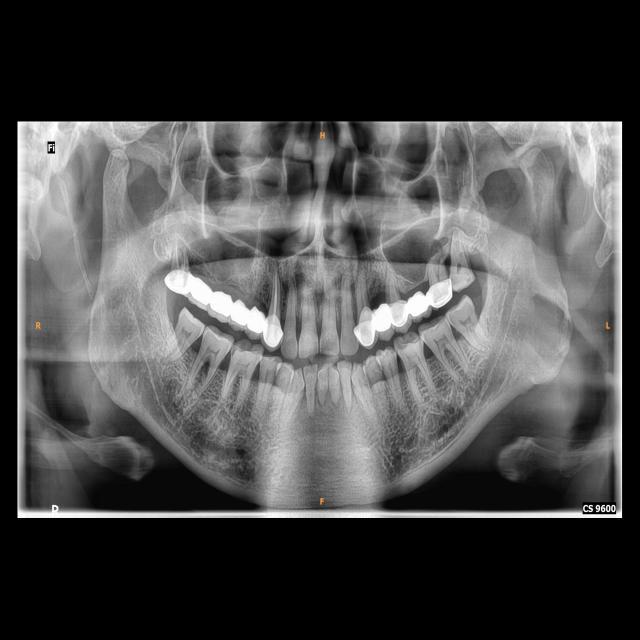kanal-tedavisi: (272, 272, 280, 316)
kaplama: (427, 276, 453, 306), (262, 312, 283, 347), (165, 271, 195, 294), (357, 306, 375, 344), (389, 296, 408, 326)
kopru: (184, 268, 271, 341), (367, 300, 396, 334), (402, 287, 432, 318)
